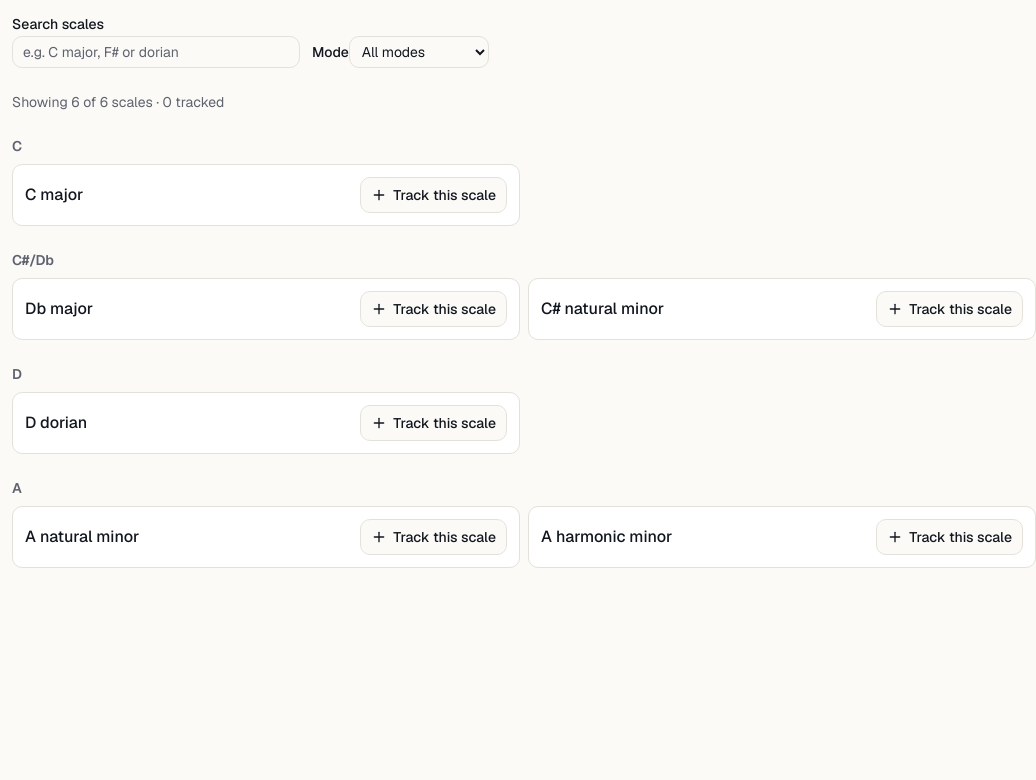
it: ScaleCatalog › tracks a scale with the default setup and marks it
Click the button "Track this scale" in the row of "C major" at (434, 195), box [360,177,507,213]
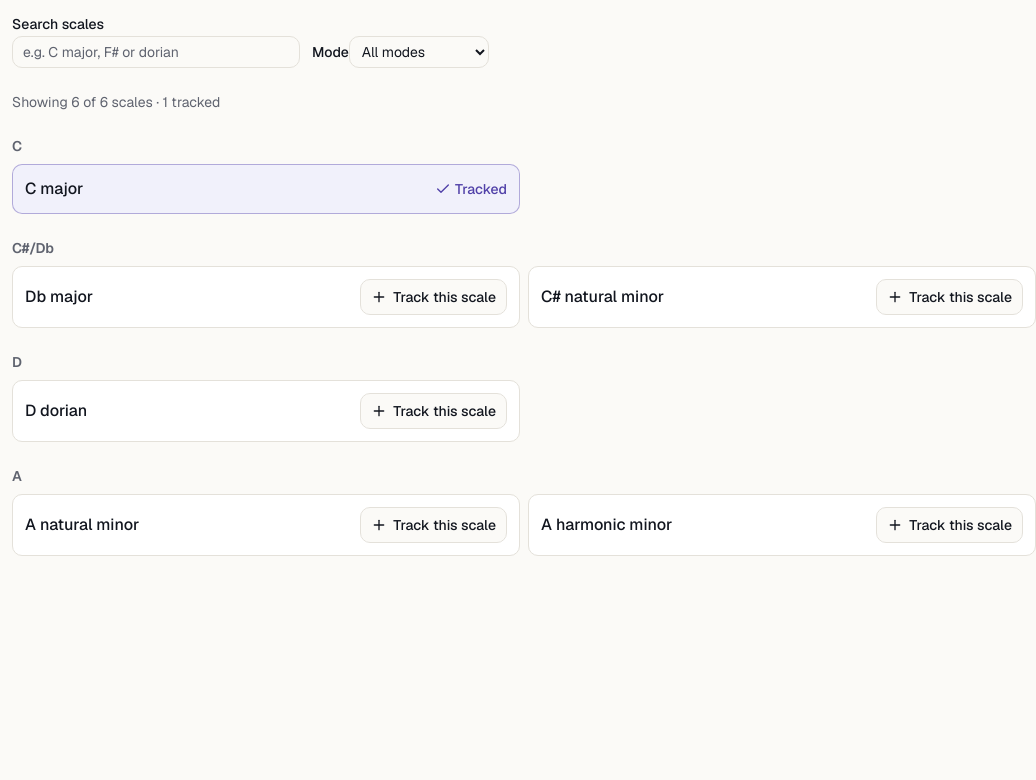
Expected: the text "Tracked" is shown, [435,179,507,199]
Expected: the message shows "1 tracked", [12,93,220,111]
